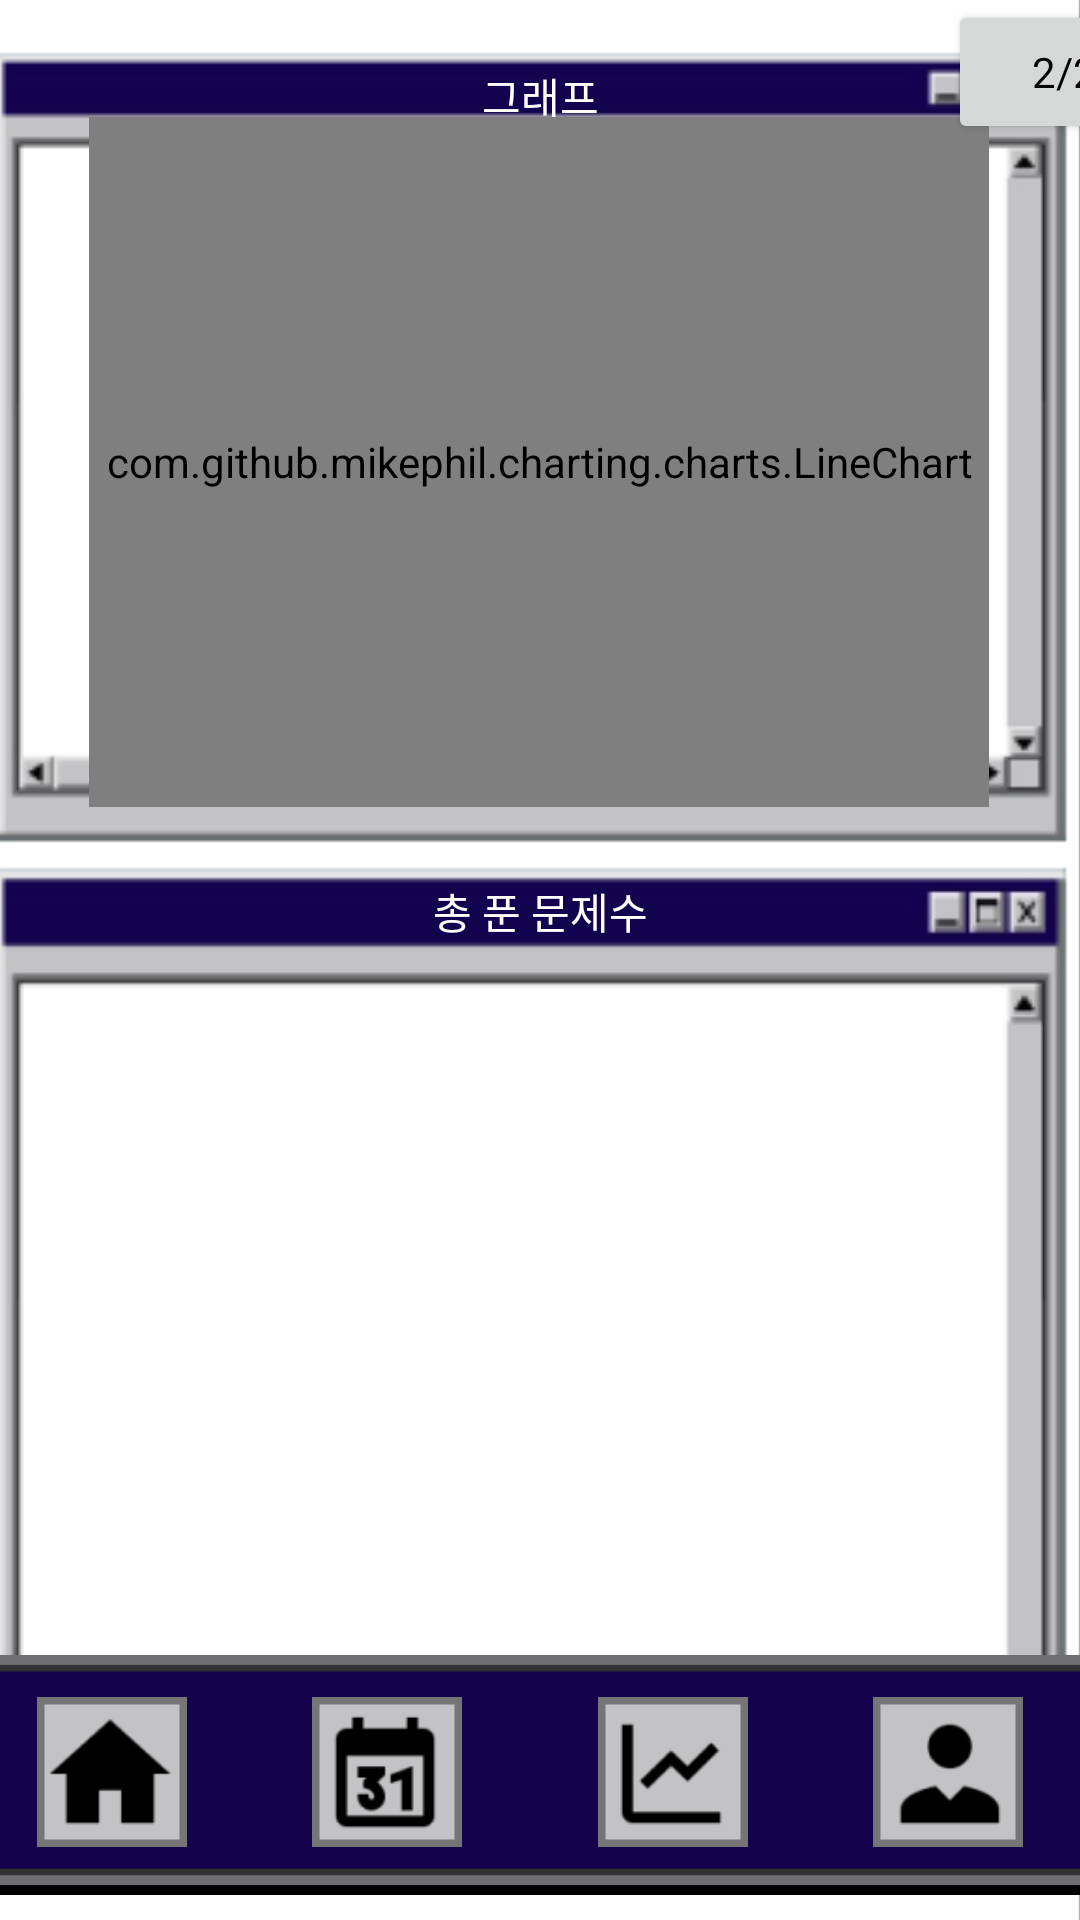

Icon click points for this 1080 x 1920 phone screenshot, format point (x, y):
toanaly: point (673, 1772)
tocalen: point (387, 1772)
tohome: point (112, 1772)
touser: point (948, 1772)
